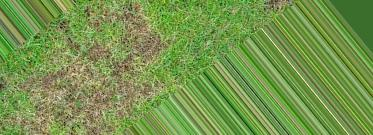patch: (65, 51, 152, 106), (94, 15, 154, 57), (46, 76, 95, 127), (15, 87, 47, 129), (90, 107, 125, 135)
